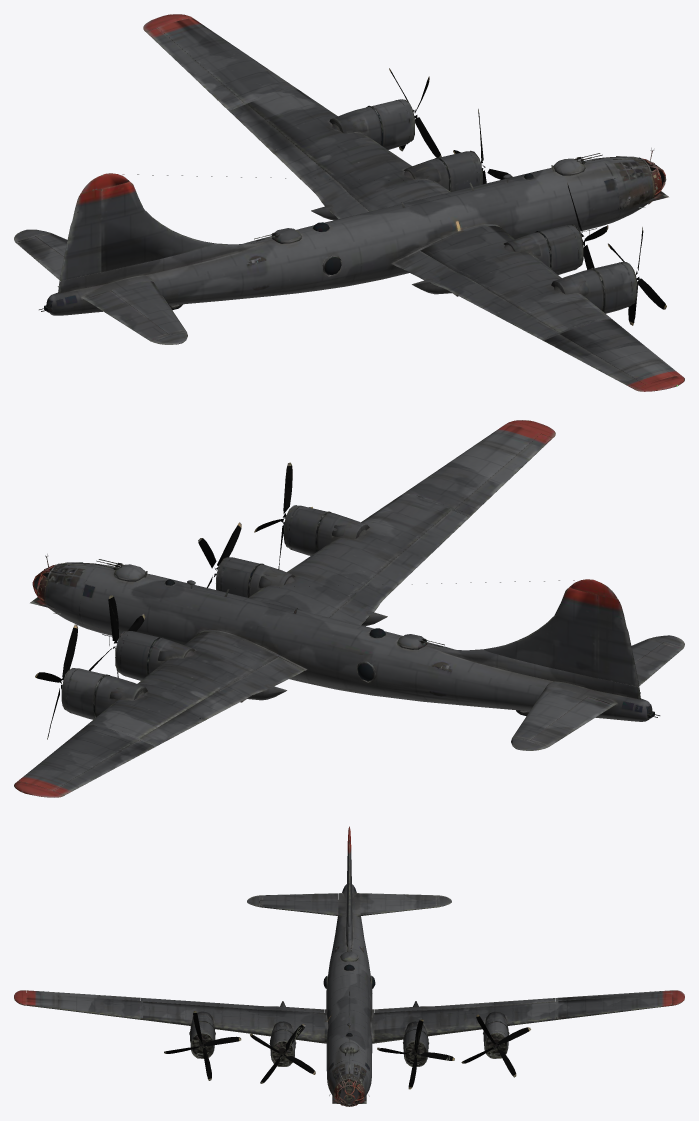
File: fh_battle_e_bomber.glb
The picture shows the model from 3 angles, top to bottom: view 1: azimuth 30°, elevation 25°; view 2: azimuth 150°, elevation 25°; view 3: azimuth 270°, elevation 25°; orthographic projection. The views are drawn at different scales.
Visible parts, largest first — view 1: bomber, prop_4; view 2: bomber, prop_1, prop_3; view 3: bomber, prop_1, prop_4, prop_3, prop_2.
Part boxes in pixels (bbox=[...]): bomber: bbox=[14, 14, 684, 391]; prop_4: bbox=[609, 230, 665, 322]; bomber: bbox=[14, 420, 684, 797]; prop_1: bbox=[36, 627, 77, 736]; prop_3: bbox=[198, 525, 241, 587]; bomber: bbox=[14, 826, 684, 1106]; prop_1: bbox=[463, 1016, 528, 1075]; prop_4: bbox=[166, 1013, 238, 1079]; prop_3: bbox=[251, 1024, 314, 1082]; prop_2: bbox=[379, 1020, 452, 1087].
Size of the model in its own units: 1 by 0.286 by 1.41.
2 materials, 2 textured.
